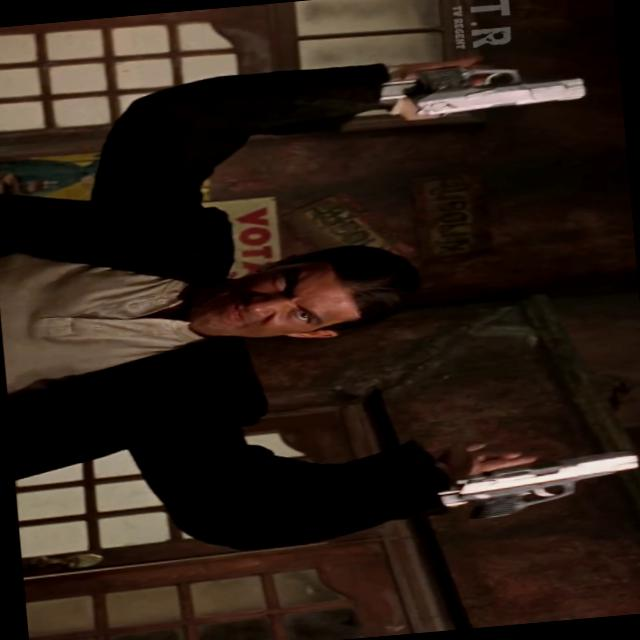handgun: (274, 45, 595, 142), (418, 426, 639, 533)
